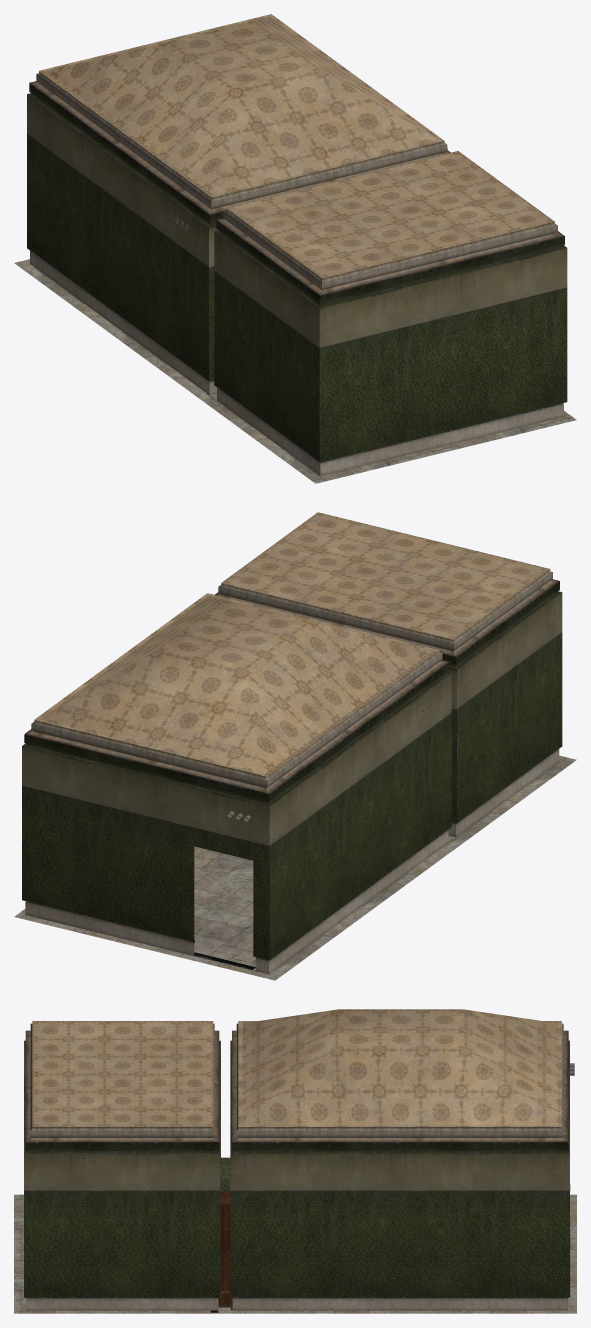
File: st4_309_0_terrain_00ms.fbx
3 views of the same model, one above another, from view 1: azimuth 30°, elevation 25°; view 2: azimuth 150°, elevation 25°; view 3: azimuth 270°, elevation 25° (orthographic). The views are drawn at different scales.
Visible parts, largest first — view 1: LOD_1_Group_0_Sub_1__st2_police1fRightWall15, LOD_1_Group_0_Sub_3__st2_police1fRightCeiling14, LOD_1_Group_0_Sub_6__st2_police1fRightWall16, LOD_1_Group_0_Sub_2__st2_police1fRightFloor14; view 2: LOD_1_Group_0_Sub_1__st2_police1fRightWall15, LOD_1_Group_0_Sub_3__st2_police1fRightCeiling14, LOD_1_Group_0_Sub_6__st2_police1fRightWall16, LOD_1_Group_0_Sub_2__st2_police1fRightFloor14; view 3: LOD_1_Group_0_Sub_1__st2_police1fRightWall15, LOD_1_Group_0_Sub_3__st2_police1fRightCeiling14, LOD_1_Group_0_Sub_6__st2_police1fRightWall16, LOD_1_Group_0_Sub_2__st2_police1fRightFloor14, LOD_1_Group_0_Sub_4__st2_police1fRightDoor11.
Part boxes in pixels (x1,y1,x2,y2): LOD_1_Group_0_Sub_1__st2_police1fRightWall15: (27,93,567,462); LOD_1_Group_0_Sub_3__st2_police1fRightCeiling14: (39,14,554,278); LOD_1_Group_0_Sub_6__st2_police1fRightWall16: (27,14,566,476); LOD_1_Group_0_Sub_2__st2_police1fRightFloor14: (14,259,576,483); LOD_1_Group_0_Sub_1__st2_police1fRightWall15: (22,591,562,960); LOD_1_Group_0_Sub_3__st2_police1fRightCeiling14: (34,512,550,776); LOD_1_Group_0_Sub_6__st2_police1fRightWall16: (23,513,561,974); LOD_1_Group_0_Sub_2__st2_police1fRightFloor14: (14,755,576,980); LOD_1_Group_0_Sub_1__st2_police1fRightWall15: (24,1040,569,1297); LOD_1_Group_0_Sub_3__st2_police1fRightCeiling14: (32,1009,561,1126); LOD_1_Group_0_Sub_6__st2_police1fRightWall16: (24,1023,570,1310); LOD_1_Group_0_Sub_2__st2_police1fRightFloor14: (14,1194,576,1313); LOD_1_Group_0_Sub_4__st2_police1fRightDoor11: (218,1192,232,1307).
Bounding box in the file's own units: 5.5 × 4.9 × 11.
